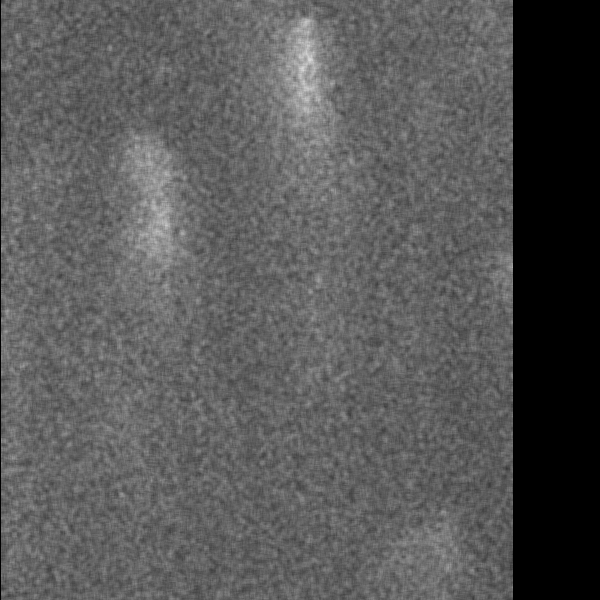spark: (251, 5, 338, 229), (131, 211, 184, 241)
